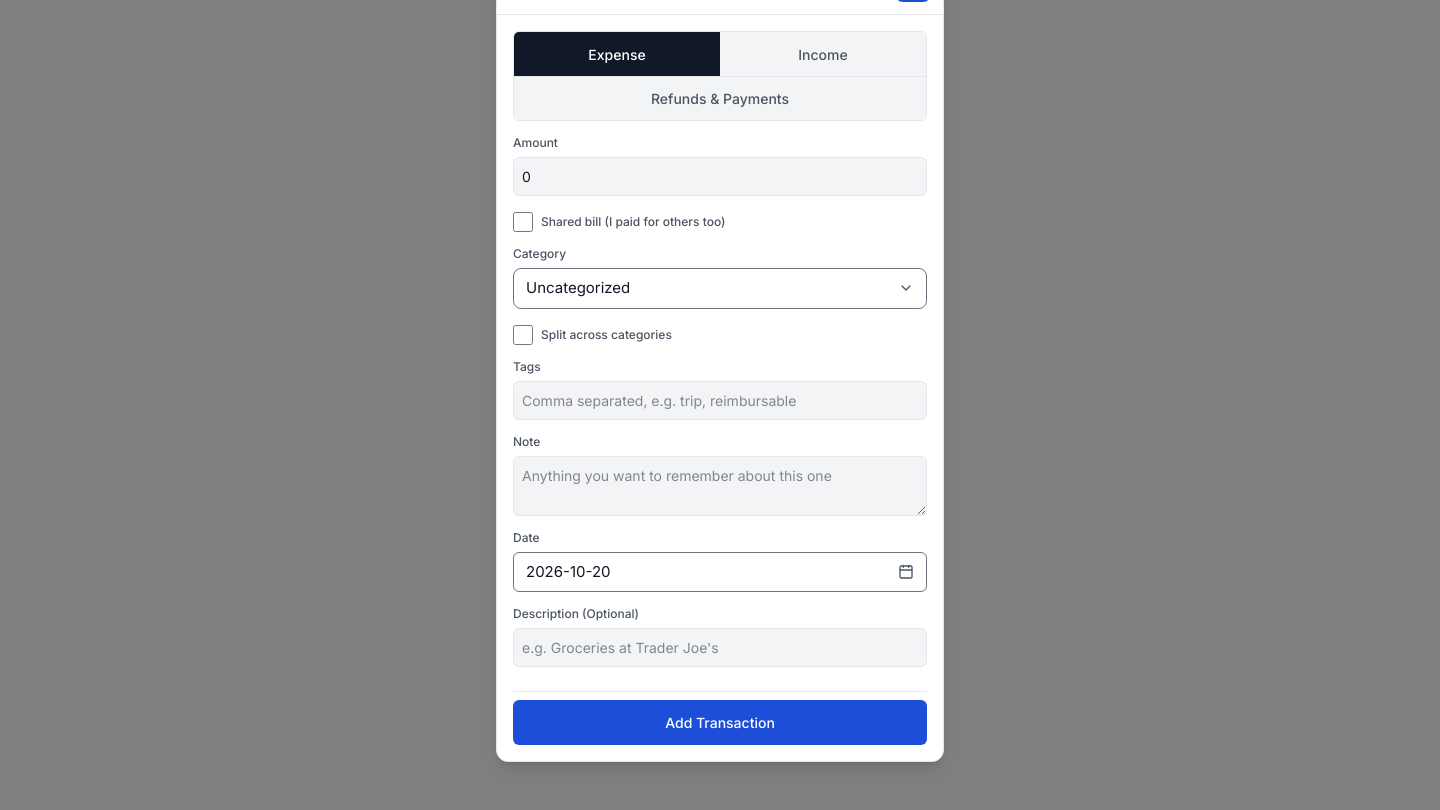
Test: TransactionModal error identification › explains why an empty submit did nothing, and marks the field invalid
(page scrolled)
Click the button "Add Transaction".
click(720, 722)  # box [513,700,927,745]
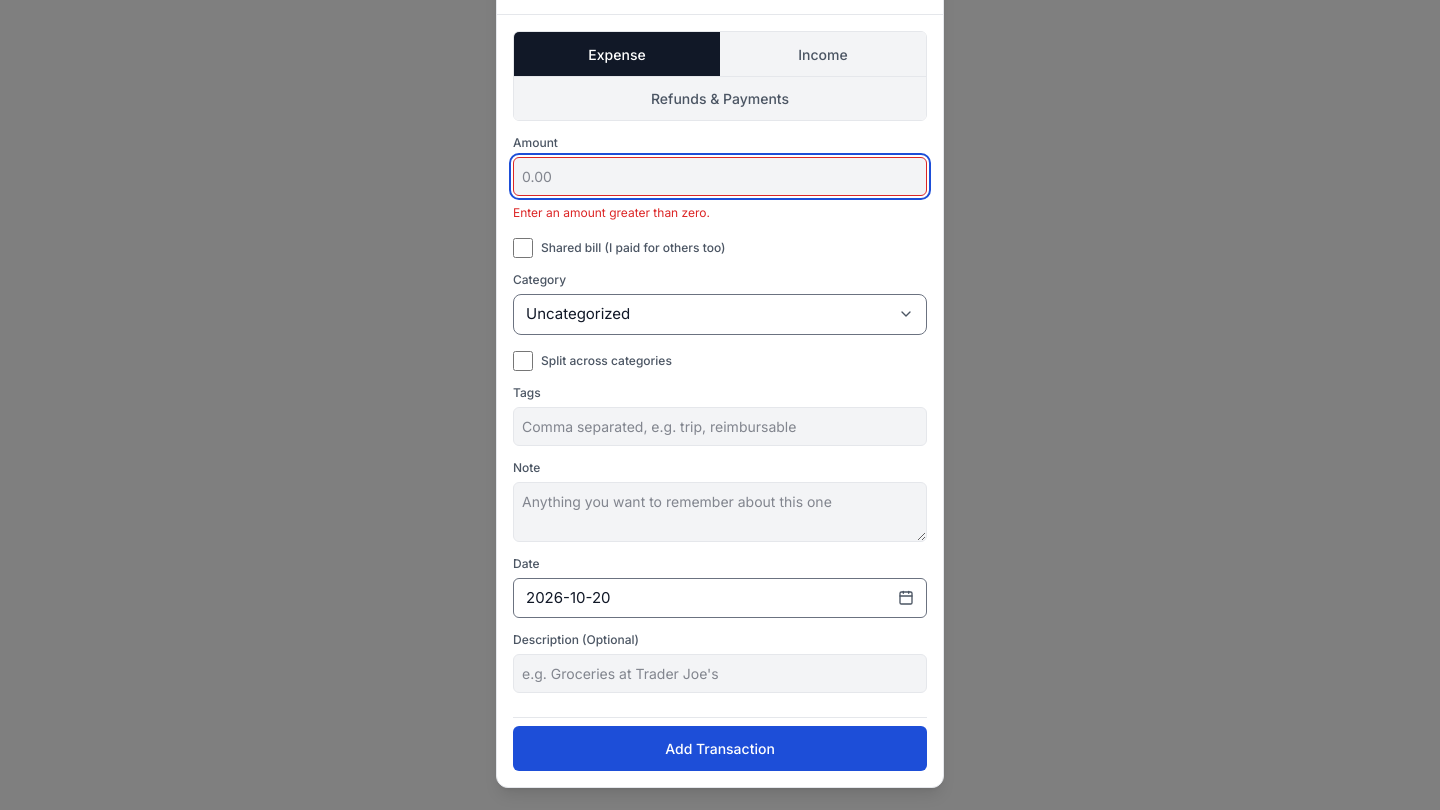
Check: the message reads "Enter an amount greater than zero.", box [513,205,710,220]
